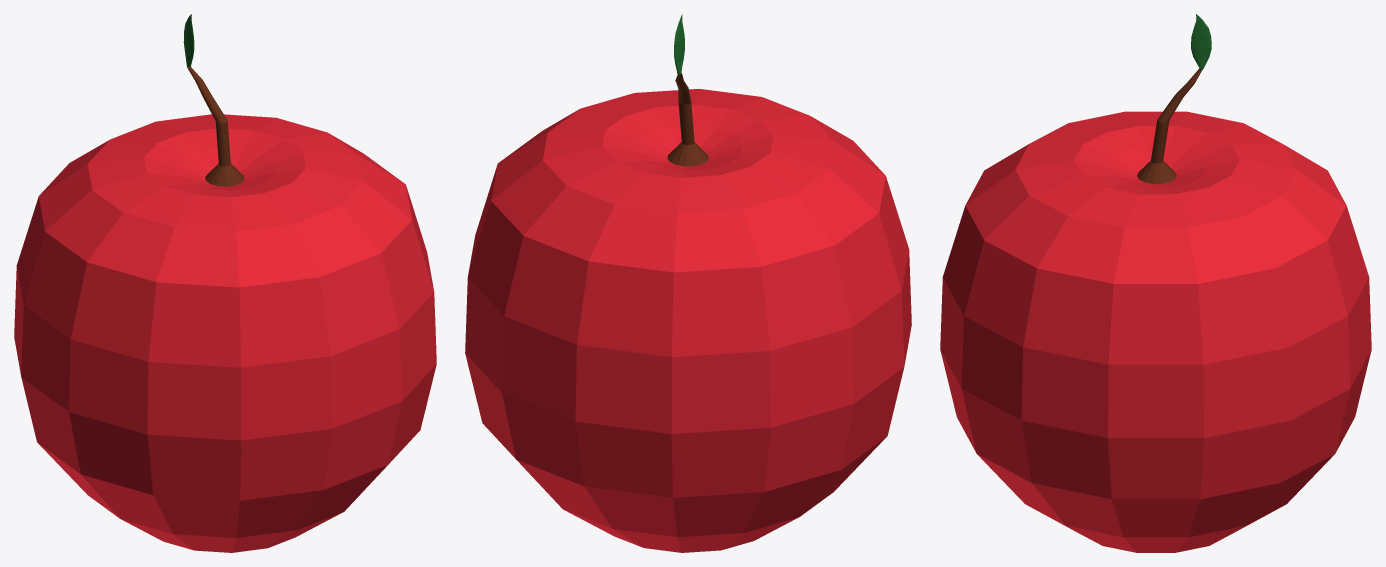
File: Manzana.fbx
3 renders of one model, left to right at view 1: azimuth 30°, elevation 25°; view 2: azimuth 150°, elevation 25°; view 3: azimuth 270°, elevation 25°, orthographic. The views are drawn at different scales.
Visible parts, largest first — view 1: Circle; view 2: Circle; view 3: Circle.
Part boxes in pixels (x1,y1,x2,y2): Circle: (14,14,436,552); Circle: (465,14,911,552); Circle: (940,14,1371,552).
Bounding box in the file's own units: 294 × 388 × 302.
